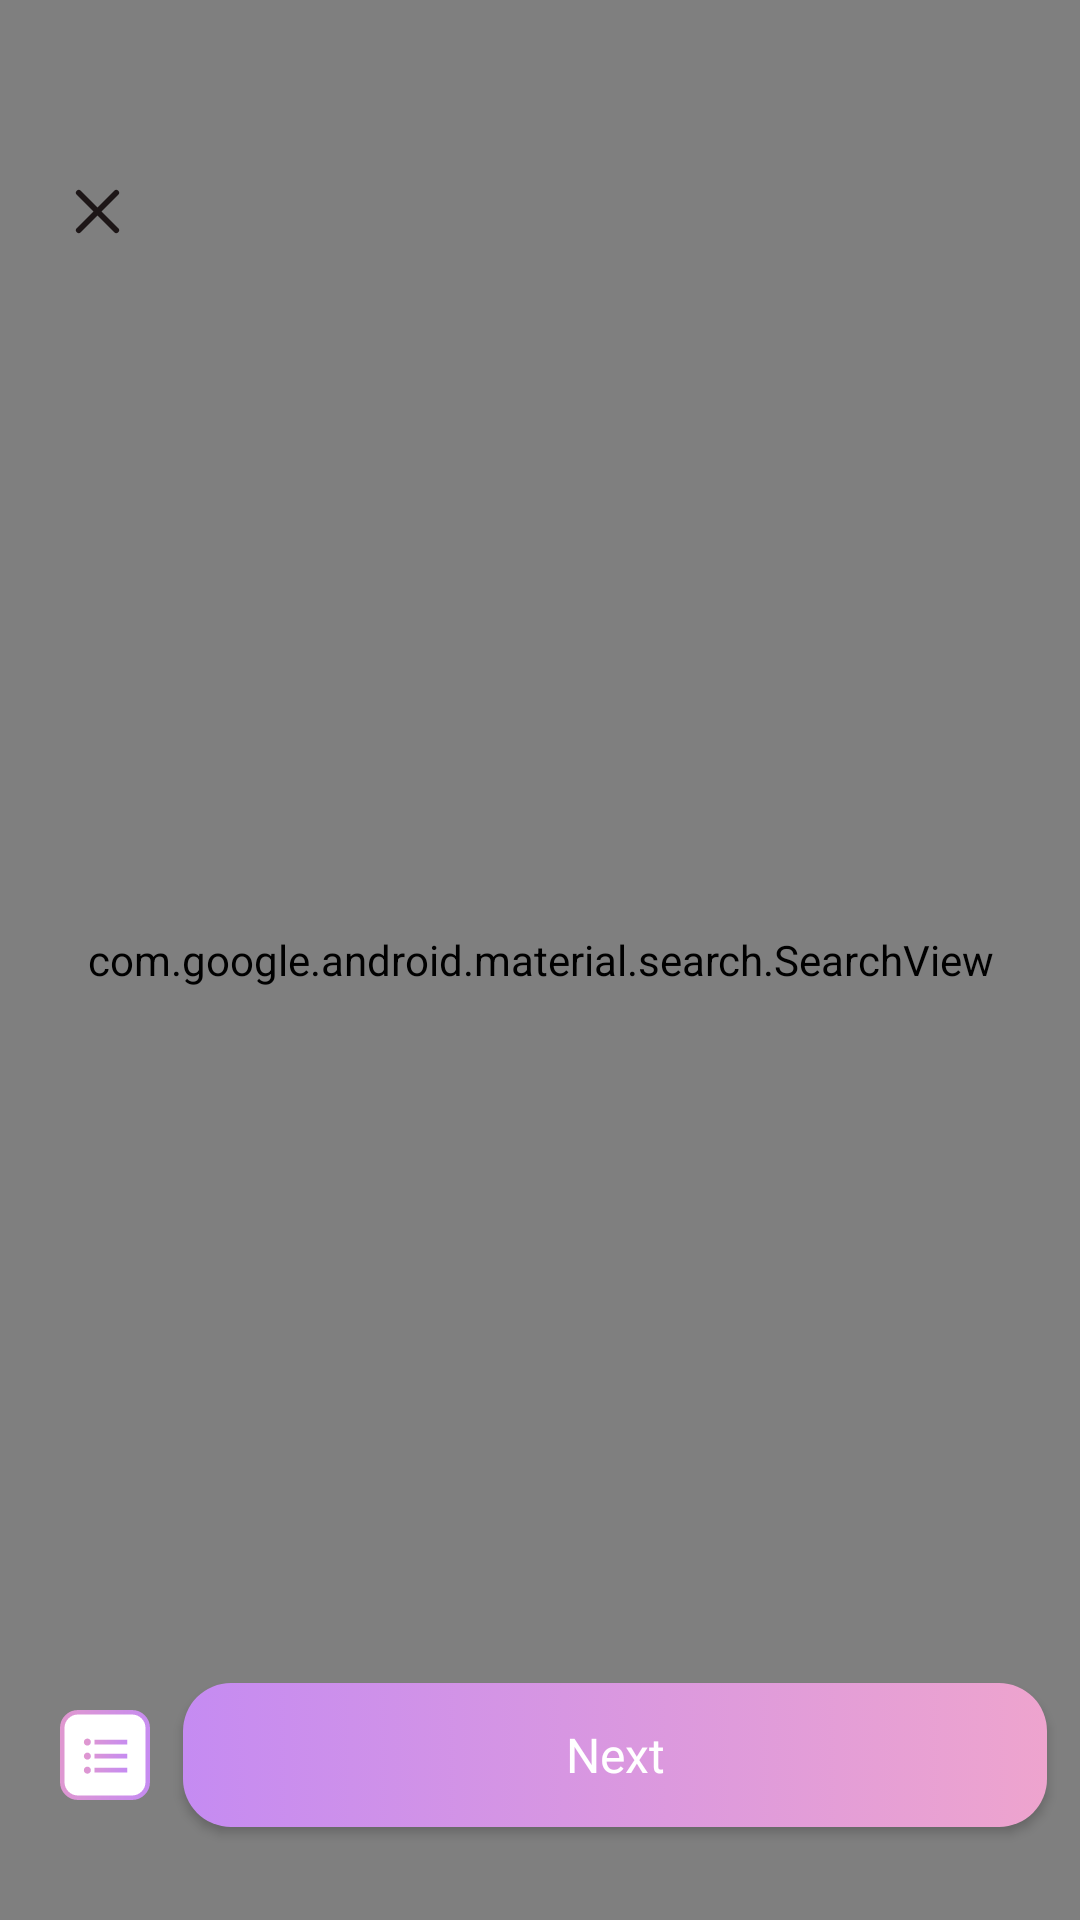

Where icons sit on this 1080 x 1920 app screen, as (x1=x1, y1=y1, x2=x2, y2=y2):
close: (x1=76, y1=190, x2=119, y2=233)
